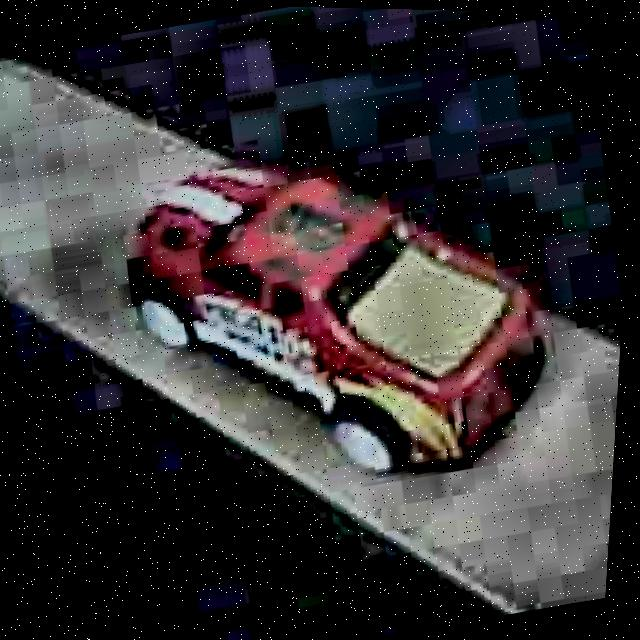car: (92, 104, 582, 536)
